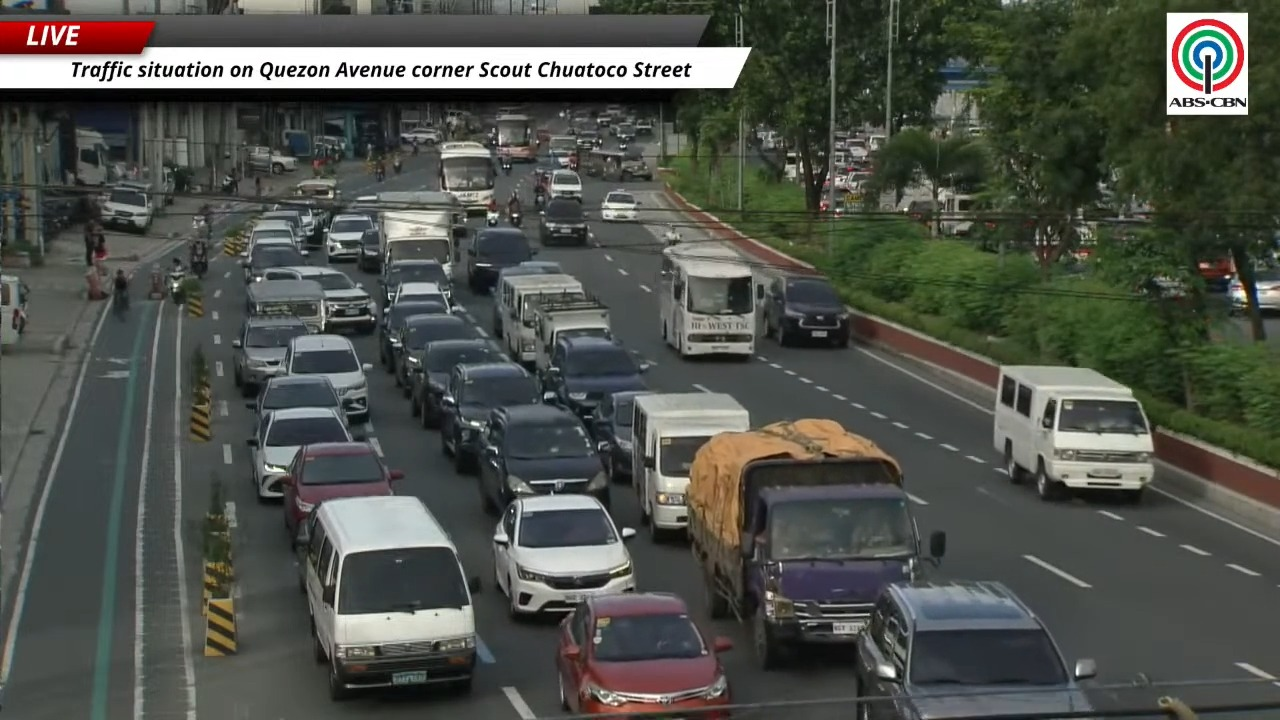bus: (660, 243, 757, 358), (439, 141, 496, 214), (496, 114, 537, 161)
car: (855, 580, 1095, 719), (556, 593, 731, 719), (492, 494, 634, 616), (477, 404, 609, 513), (282, 443, 403, 538), (439, 360, 539, 473), (247, 407, 352, 500), (541, 336, 648, 418), (410, 337, 505, 427), (282, 334, 371, 423), (271, 266, 377, 333), (394, 315, 478, 396), (762, 276, 850, 346), (232, 316, 308, 396), (589, 390, 648, 480), (379, 301, 449, 372), (466, 227, 535, 292), (246, 375, 341, 421), (379, 259, 449, 303), (263, 201, 323, 245), (324, 213, 375, 261), (245, 242, 305, 282), (101, 186, 153, 232), (255, 205, 313, 245), (540, 198, 588, 245), (384, 281, 451, 309), (496, 260, 563, 286), (246, 219, 300, 250), (246, 146, 297, 174), (601, 190, 639, 221), (1253, 268, 1279, 311), (356, 227, 381, 271), (619, 148, 652, 181), (548, 169, 582, 200), (400, 126, 441, 145), (576, 129, 603, 150), (549, 149, 574, 168), (613, 123, 635, 142), (635, 117, 654, 135)
motorcycle: (168, 270, 185, 303), (190, 256, 208, 279), (220, 173, 237, 194), (663, 226, 681, 245), (192, 215, 205, 235), (486, 209, 500, 227), (509, 210, 521, 227), (501, 158, 512, 176), (534, 193, 545, 209), (375, 166, 384, 181), (393, 159, 401, 174), (411, 141, 418, 156), (618, 140, 628, 150)
truck: (685, 419, 945, 669), (630, 392, 749, 542), (534, 295, 611, 371), (378, 208, 456, 277), (75, 127, 110, 186)
